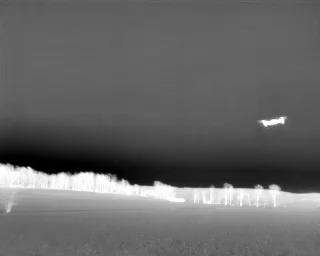DRONE: (254, 111, 292, 134)
